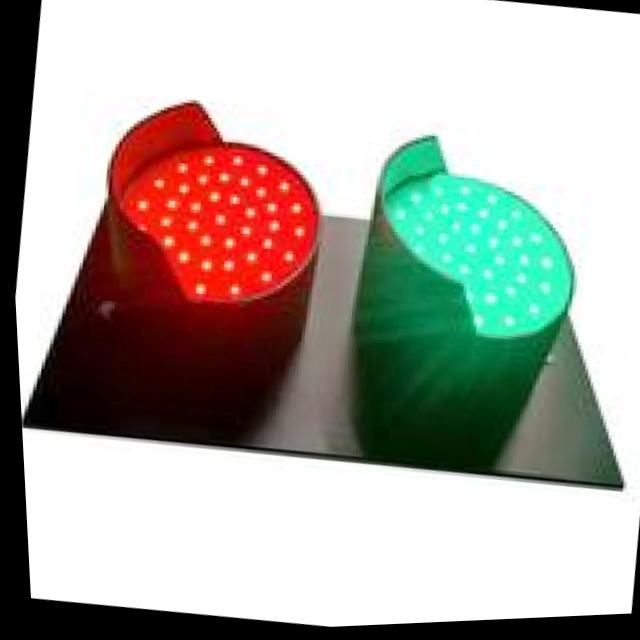green_light: (276, 7, 640, 507)
red_light: (89, 34, 353, 394)
